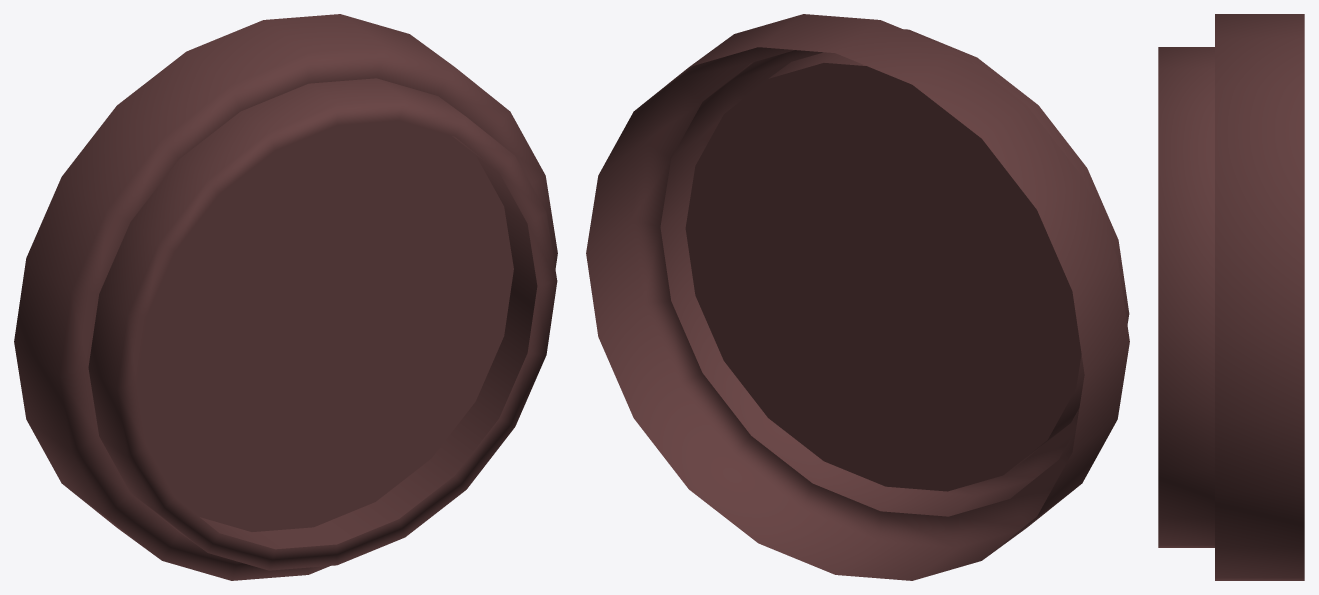
File: Reloj.fbx
The picture shows the model from 3 angles, left to right: view 1: azimuth 30°, elevation 25°; view 2: azimuth 150°, elevation 25°; view 3: azimuth 270°, elevation 25°; orthographic projection.
Visible parts, largest first — view 1: reloj; view 2: reloj; view 3: reloj.
Boxes of the visible parts, x1=… form: reloj: x1=14, y1=14, x2=557, y2=580; reloj: x1=586, y1=14, x2=1129, y2=580; reloj: x1=1158, y1=14, x2=1304, y2=580.
Size of the model in its own units: 63.77 by 63.77 by 16.35.
